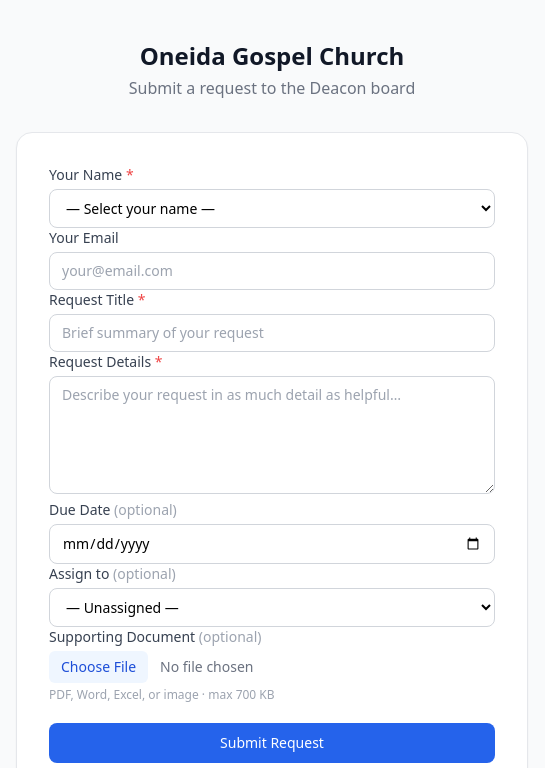
Test: App — clear → summarized recursion (T1) › produces a summary when Philip returns clear then summarized
This screenshot has width=545, height=768.
Select "Test User One" in the dropdown labelled "Your Name *" at {"x": 272, "y": 208}, box [49,189,495,228]
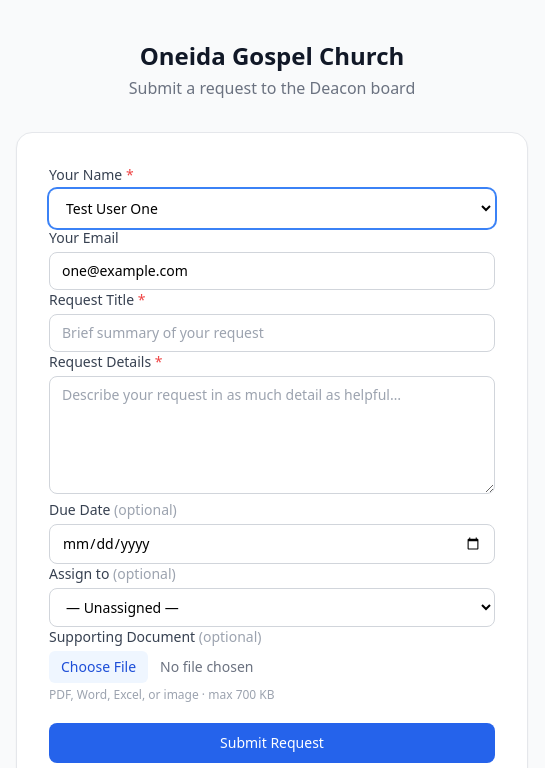
Type "Heater" into the field labelled "Request Title *".
click(272, 333); type("Heater")  # box [49,314,495,352]
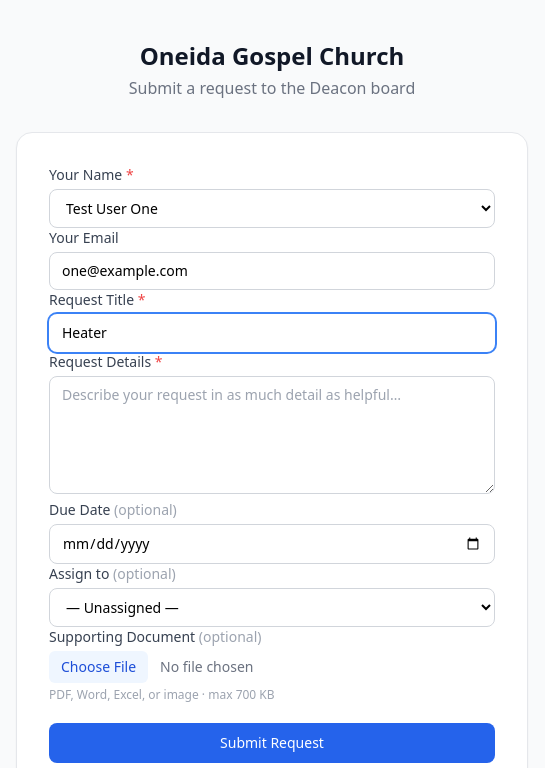
Type "Broken heater" into the text box labelled "Request Details *".
click(272, 435); type("Broken heater")  # box [49,376,495,494]
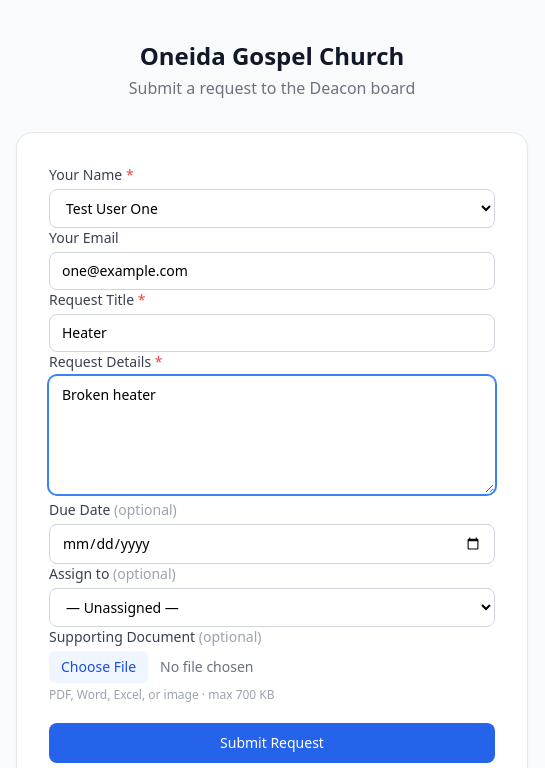
Click the button "Submit Request".
click(272, 743)  # box [49,723,495,763]
(page scrolled)
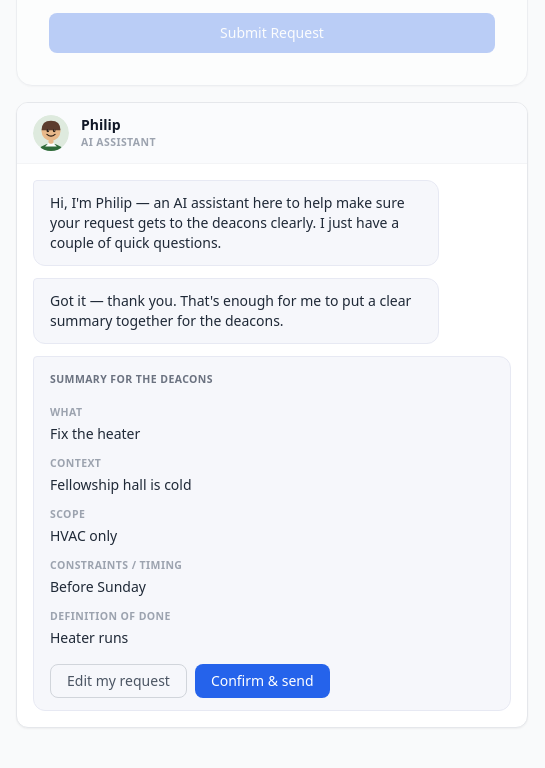
expect the text "Summary for the deacons" is shown: met, box [50,372,213,386]
expect the text "Fix the heater" is shown: met, box [50,424,140,443]
